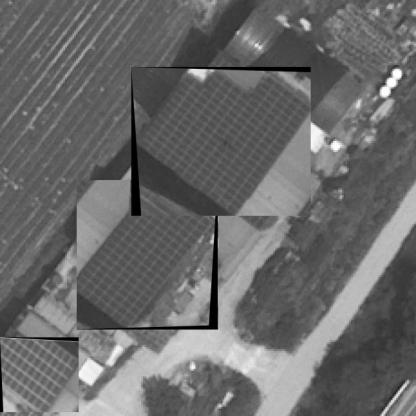solar-pv-panel: (135, 70, 311, 216), (77, 180, 216, 328), (0, 337, 79, 412)
